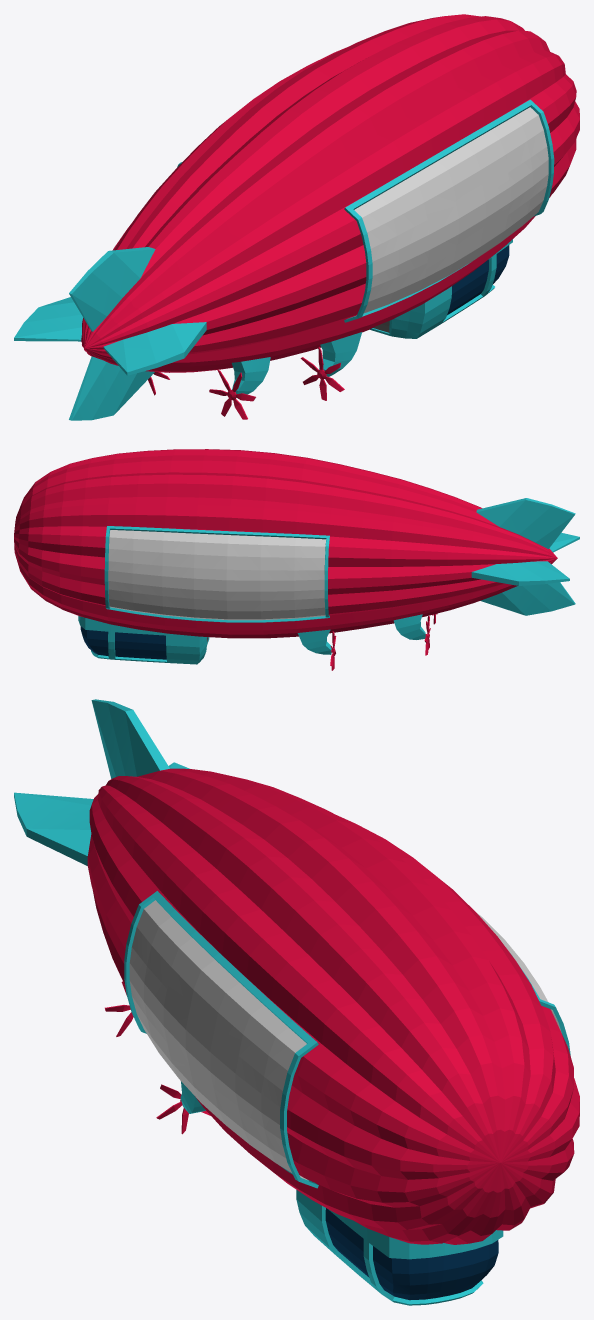
Rendered from Blimp.obj.
The picture shows the model from 3 angles, top to bottom: view 1: azimuth 30°, elevation 25°; view 2: azimuth 150°, elevation 25°; view 3: azimuth 270°, elevation 25°; orthographic projection. The views are drawn at different scales.
Visible parts, largest first — view 1: baloon_Untitled, cube2_Untitled.010, wings_Untitled.004, cabin_1_Untitled.006, cube_Untitled.009, sper_Untitled.001, propeller4_Untitled.008, propeller2_Untitled.002; view 2: baloon_Untitled, cube2_Untitled.010, wings_Untitled.004, cabin_1_Untitled.006, cube1_Untitled.003, sper_Untitled.001; view 3: baloon_Untitled, cube2_Untitled.010, cabin_1_Untitled.006, wings_Untitled.004, cube_Untitled.009.
Boxes of the visible parts, x1,y1,x2,y2 form: baloon_Untitled: [81, 14, 579, 372]; cube2_Untitled.010: [354, 107, 548, 316]; wings_Untitled.004: [14, 247, 206, 420]; cabin_1_Untitled.006: [369, 239, 512, 338]; cube_Untitled.009: [344, 99, 554, 322]; sper_Untitled.001: [231, 332, 361, 394]; propeller4_Untitled.008: [209, 369, 255, 419]; propeller2_Untitled.002: [300, 347, 344, 400]; baloon_Untitled: [14, 449, 557, 638]; cube2_Untitled.010: [108, 530, 326, 620]; wings_Untitled.004: [471, 498, 579, 615]; cabin_1_Untitled.006: [78, 616, 209, 664]; cube1_Untitled.003: [104, 526, 329, 622]; sper_Untitled.001: [297, 614, 425, 654]; baloon_Untitled: [87, 768, 579, 1244]; cube2_Untitled.010: [129, 900, 561, 1180]; cabin_1_Untitled.006: [296, 1190, 503, 1305]; wings_Untitled.004: [14, 699, 189, 865]; cube_Untitled.009: [124, 891, 318, 1188].
Bounding box in the file's own units: 7.24 × 2.87 × 4.28.
